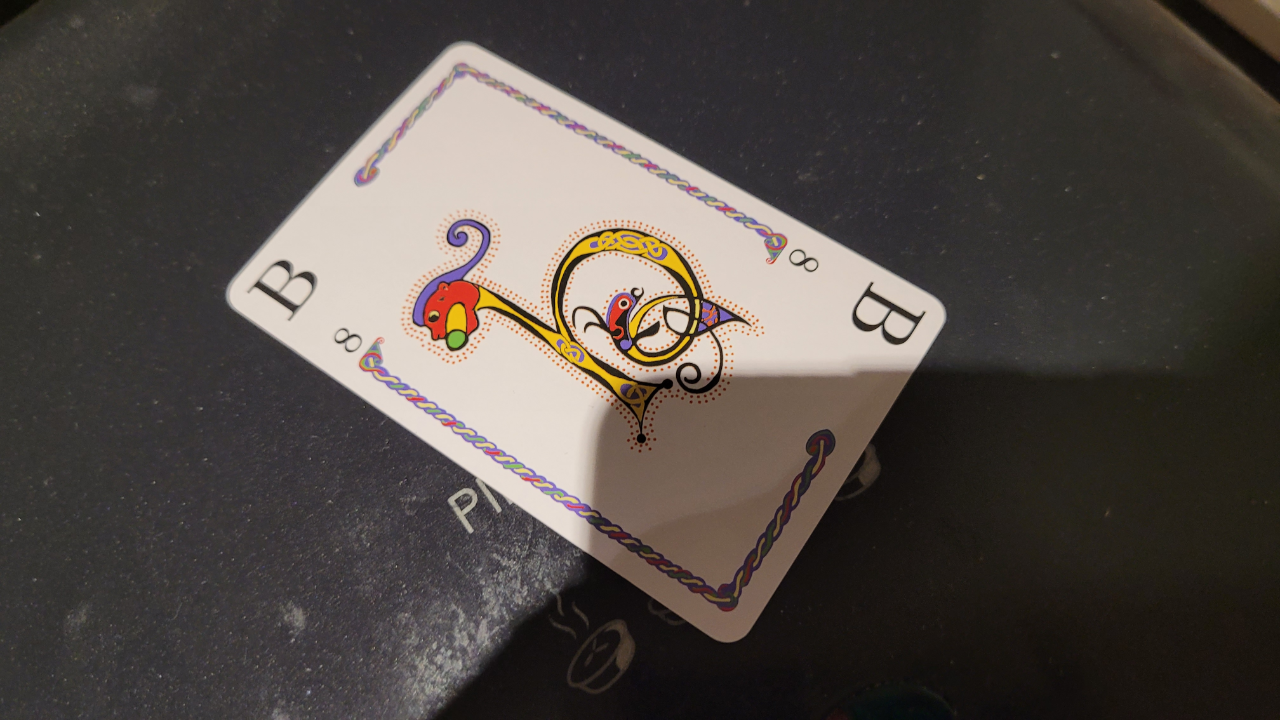quiddler_card: (195, 33, 978, 666)
